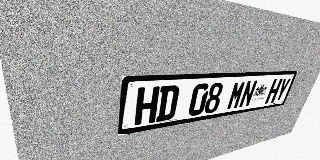0: (187, 83, 210, 117)
8: (203, 82, 225, 114)
D: (155, 85, 180, 122)
H: (134, 86, 160, 126), (264, 78, 283, 104)
M: (226, 81, 247, 110)
N: (238, 80, 258, 108)
Y: (273, 78, 291, 102)
